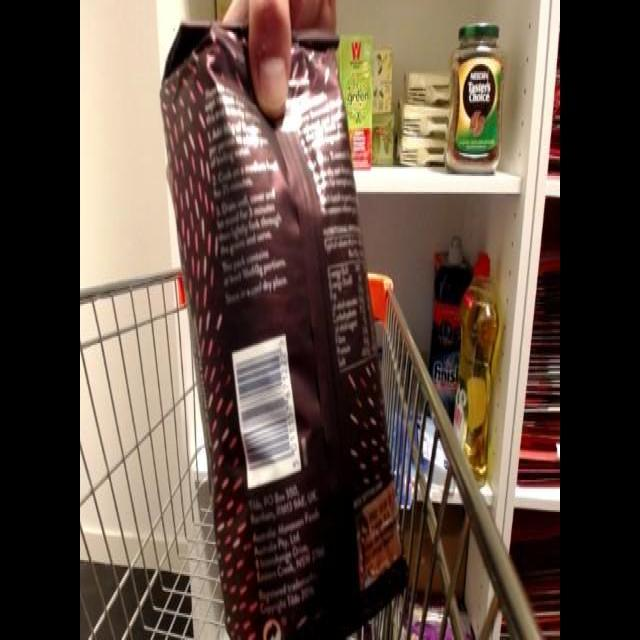Tida: (156, 11, 412, 620)
